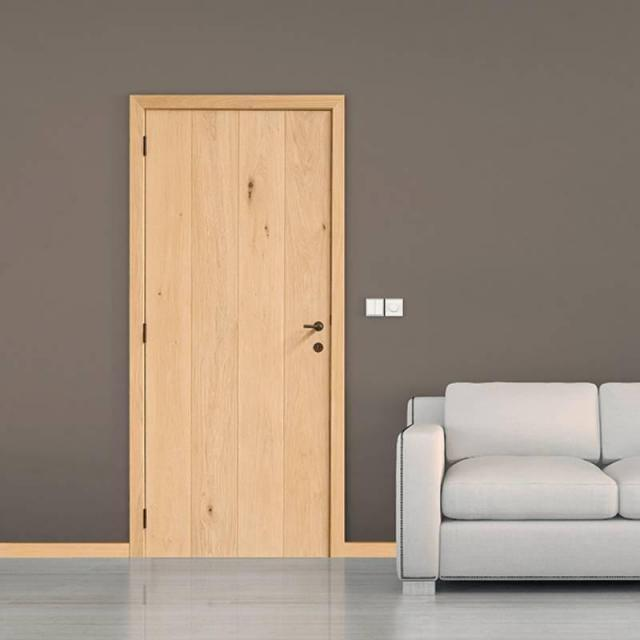door: (128, 93, 344, 558)
